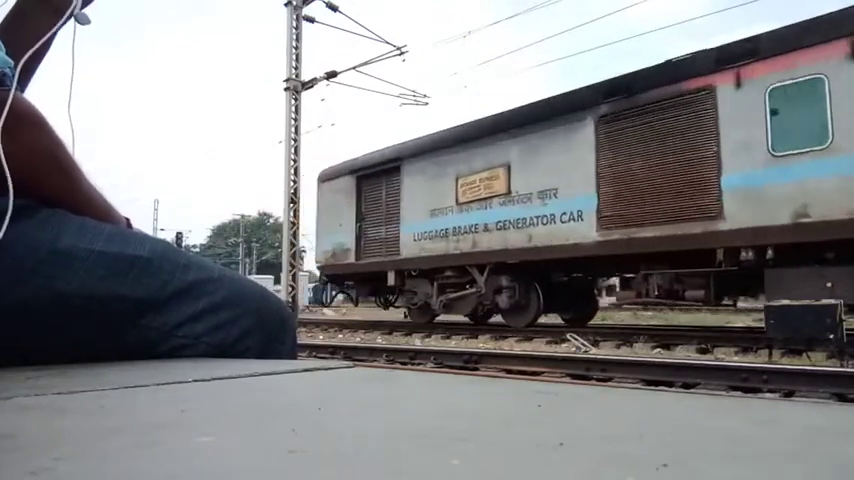Car Type: (405, 203, 585, 247)
